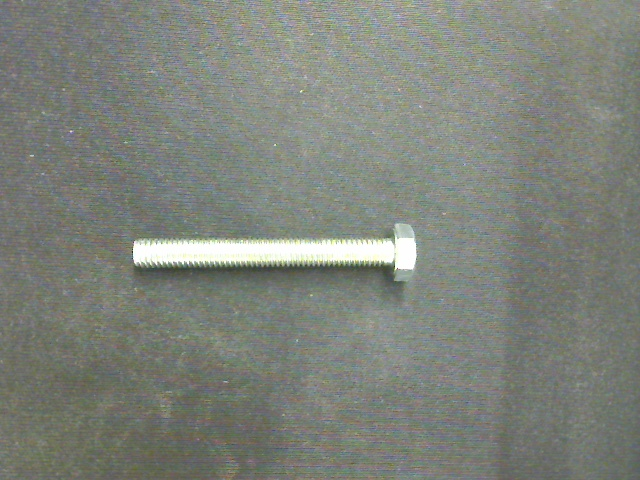Screw: (133, 222, 416, 282)
